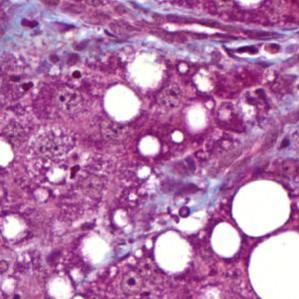steatosis: (235, 176, 291, 234), (151, 227, 194, 274), (100, 83, 141, 122), (208, 218, 242, 257), (138, 132, 160, 159)
